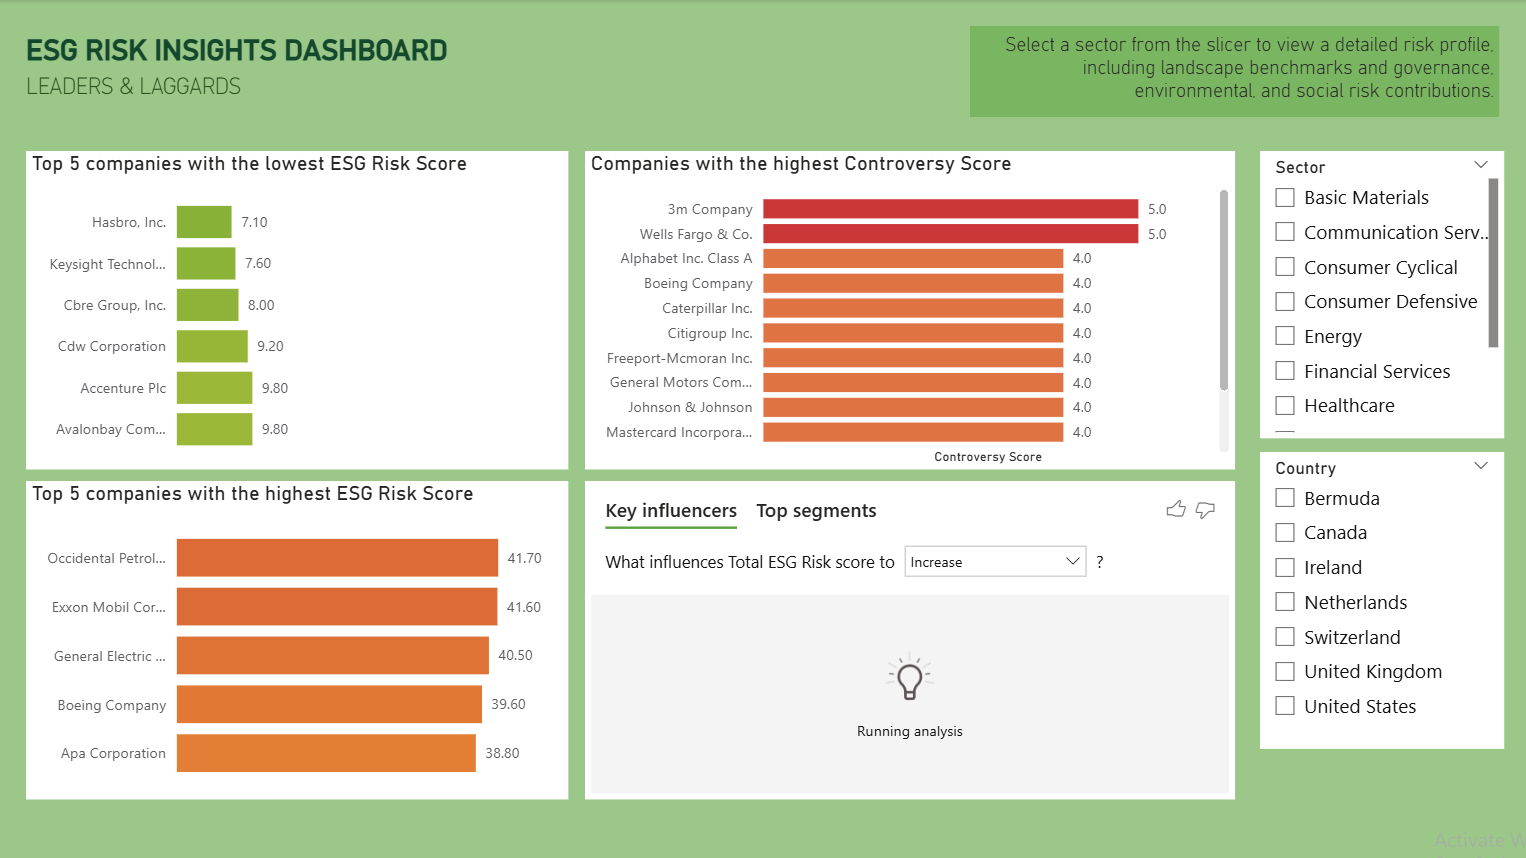

What the dashboard file says about the page in this screenshot:
{"tool":"powerbi","page":{"name":"Leaders & Laggards","canvas":[1280,720],"ordinal":6},"visuals":[{"type":"slicer","fields":{"Values":["SP 500 ESG Risk Ratings.Sector"]},"box":[1054,126.4,203.7,240.5],"z":0},{"type":"slicer","fields":{"Values":["SP 500 ESG Risk Ratings.Country"]},"box":[1054,377.9,203.7,247.9],"z":1000},{"type":"textbox","box":[18.4,23.3,1234.4,41.7],"z":2000},{"type":"textbox","box":[18,55.4,354.6,42.9],"z":3000},{"type":"clusteredBarChart","title":"Companies with the highest Controversy Score","fields":{"Y":["Sum(SP 500 ESG Risk Ratings.Controversy Score)"],"Category":["SP 500 ESG Risk Ratings.Name"]},"box":[490,125.7,542.9,265.7],"z":4000},{"type":"clusteredBarChart","title":"Top 5 companies with the lowest ESG Risk Score","fields":{"Y":["Sum(SP 500 ESG Risk Ratings.Total ESG Risk score)"],"Category":["SP 500 ESG Risk Ratings.Name"]},"box":[23.3,126.2,452.8,265.5],"z":5000},{"type":"clusteredBarChart","title":"Top 5 companies with the highest ESG Risk Score","fields":{"Y":["Sum(SP 500 ESG Risk Ratings.Total ESG Risk score)"],"Category":["SP 500 ESG Risk Ratings.Name"]},"box":[23.3,401.4,452.8,265.5],"z":6000},{"type":"keyDriversVisual","fields":{"Target":["SP 500 ESG Risk Ratings.Total ESG Risk score"],"ExplainBy":["SP 500 ESG Risk Ratings.Sector"]},"box":[490,401.4,542.9,265.7],"z":7000},{"type":"textbox","box":[811.5,21.8,442.3,75.6],"z":8000}]}

Visuals, with their boxes in screenshot pixels (x1, y1, x2, y2), scaled from the page's 1280x720 canvas onto the 1526x858 screenshot:
slicer - SP 500 ESG Risk Ratings.Sector: [1257,151,1499,437]
slicer - SP 500 ESG Risk Ratings.Country: [1257,450,1499,746]
textbox: [22,28,1494,77]
textbox: [21,66,444,117]
"Companies with the highest Controversy Score" clusteredBarChart: [584,150,1231,466]
"Top 5 companies with the lowest ESG Risk Score" clusteredBarChart: [28,150,568,467]
"Top 5 companies with the highest ESG Risk Score" clusteredBarChart: [28,478,568,795]
keyDriversVisual - SP 500 ESG Risk Ratings.Total ESG Risk score x SP 500 ESG Risk Ratings.Sector: [584,478,1231,795]
textbox: [967,26,1495,116]
